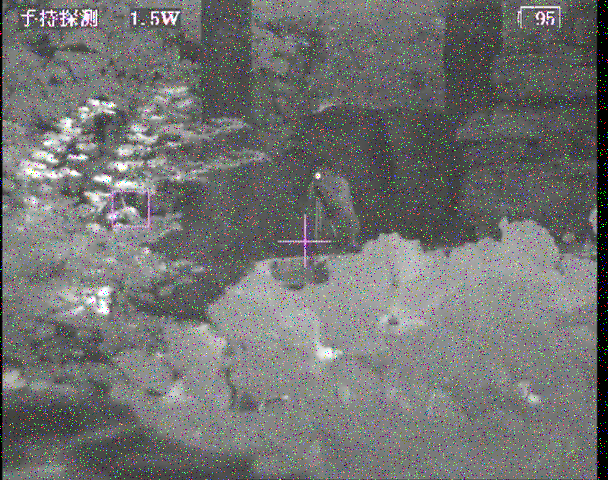my: (314, 171, 324, 181)
